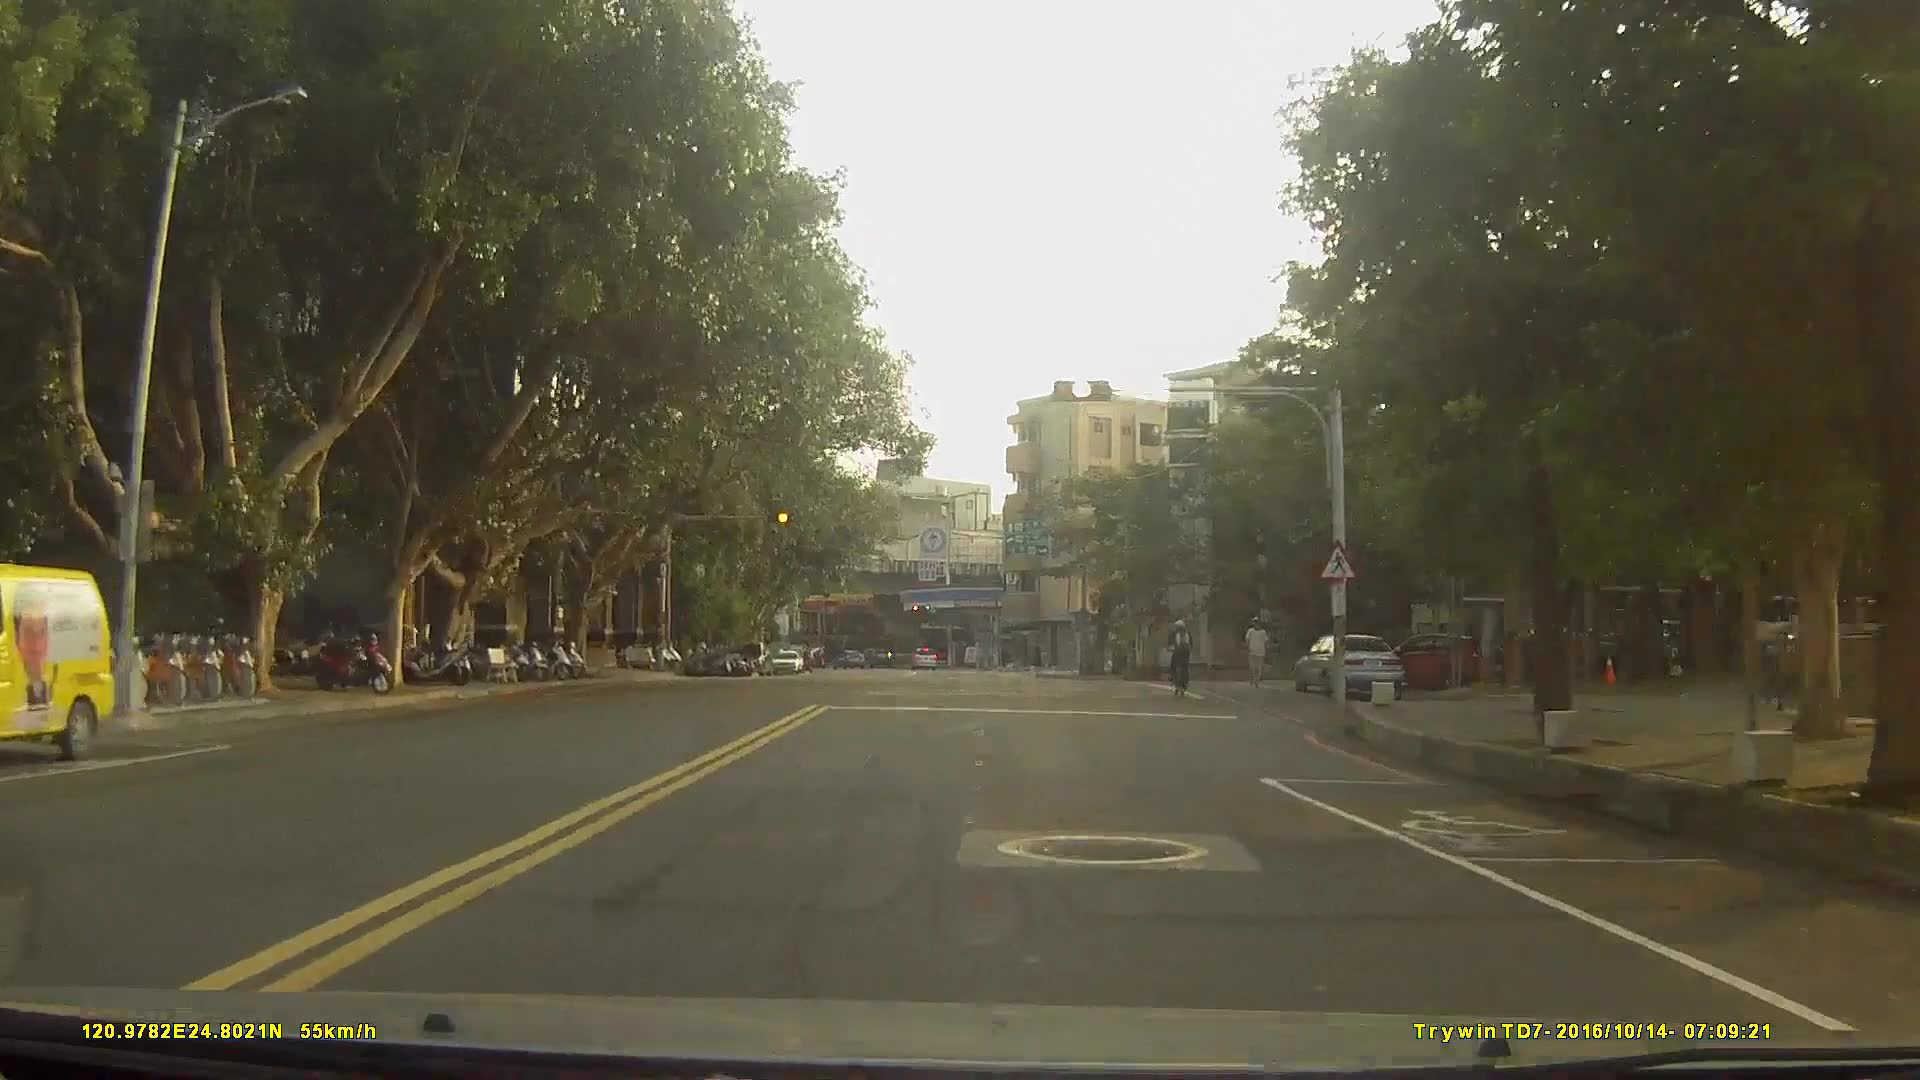pedestrian: (1242, 610, 1274, 690)
rider: (1173, 615, 1203, 694)
vehicle: (1291, 633, 1403, 699), (1370, 628, 1480, 692), (770, 646, 803, 672), (903, 643, 936, 667)
